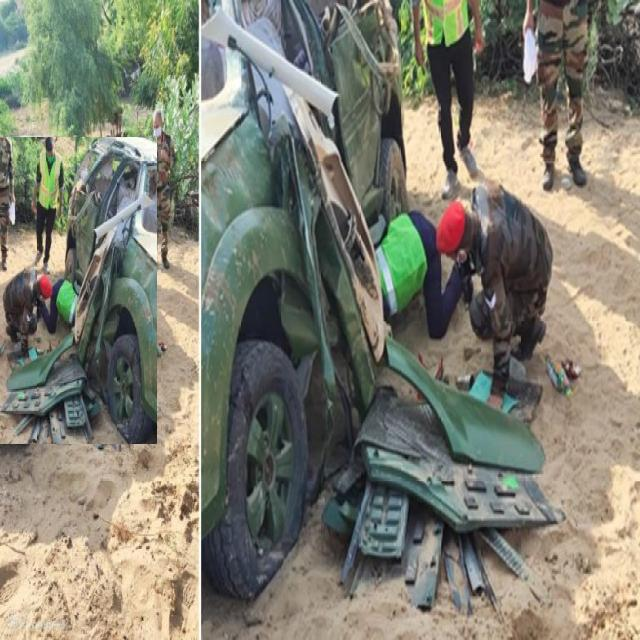accident: (200, 0, 560, 598), (0, 137, 157, 444)
